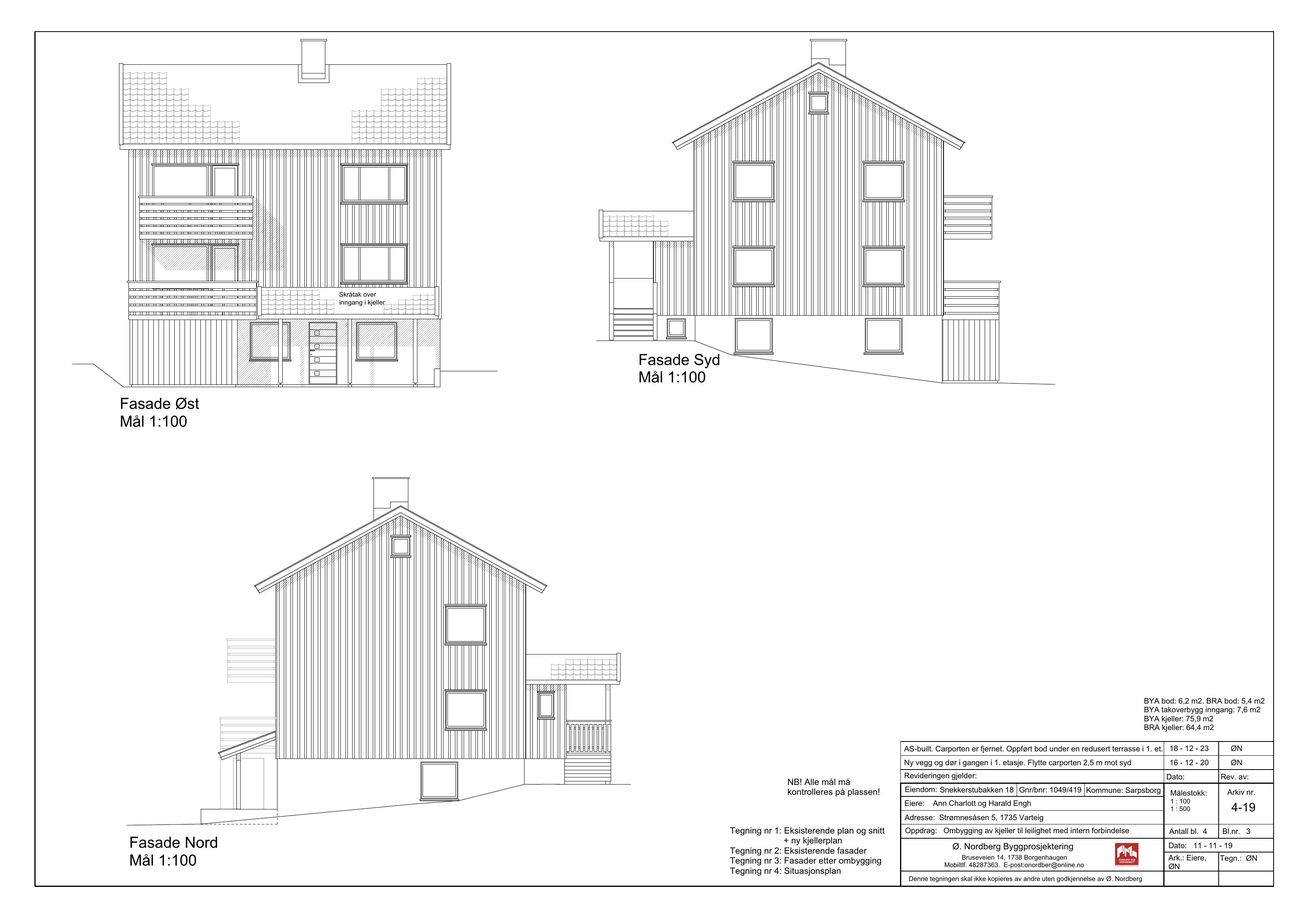fasade: (200, 477, 622, 825), (598, 38, 1002, 385), (118, 38, 452, 388)
